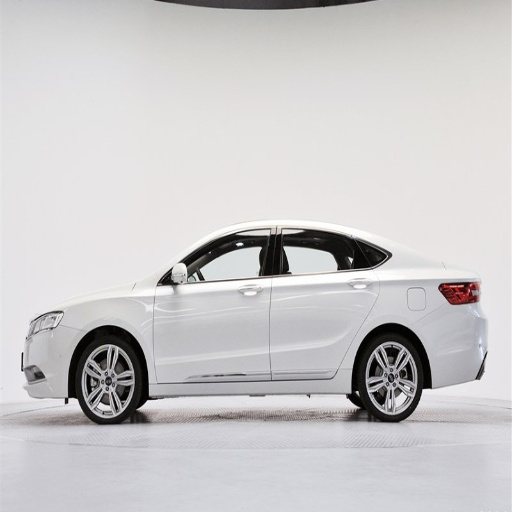back_left_door: (270, 226, 377, 375)
front_left_door: (154, 228, 276, 381)
